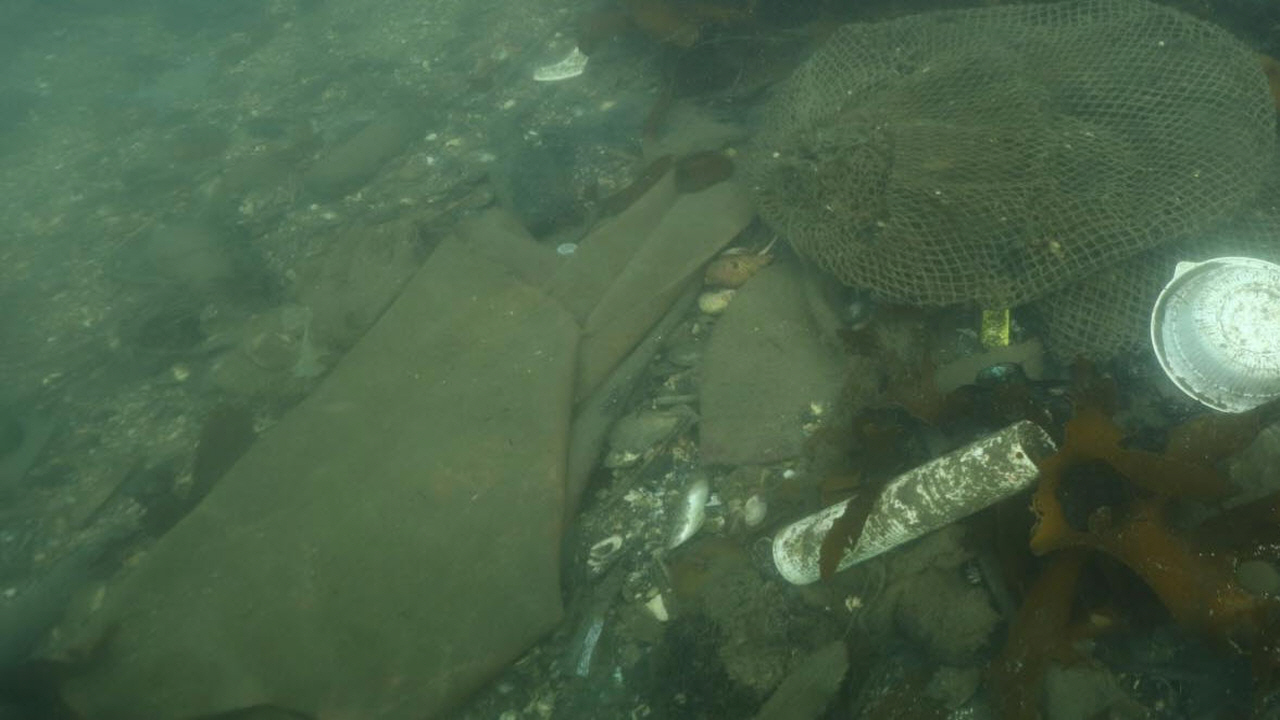fish net: (738, 0, 1280, 374)
